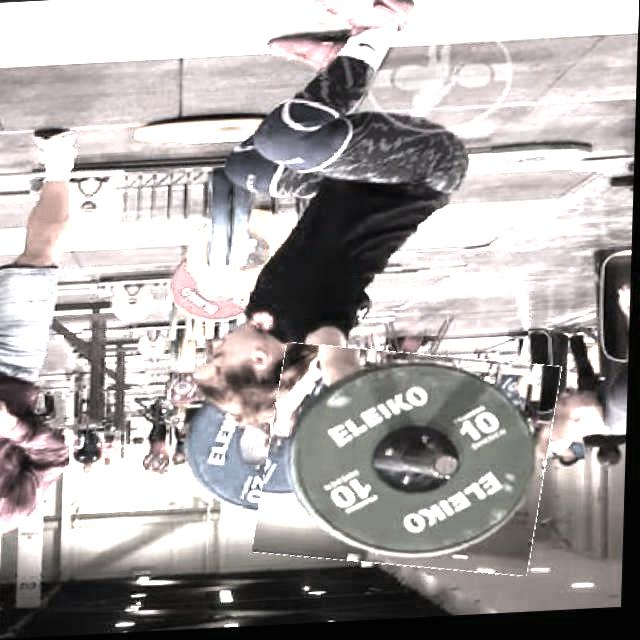barbell: (262, 345, 560, 585)
